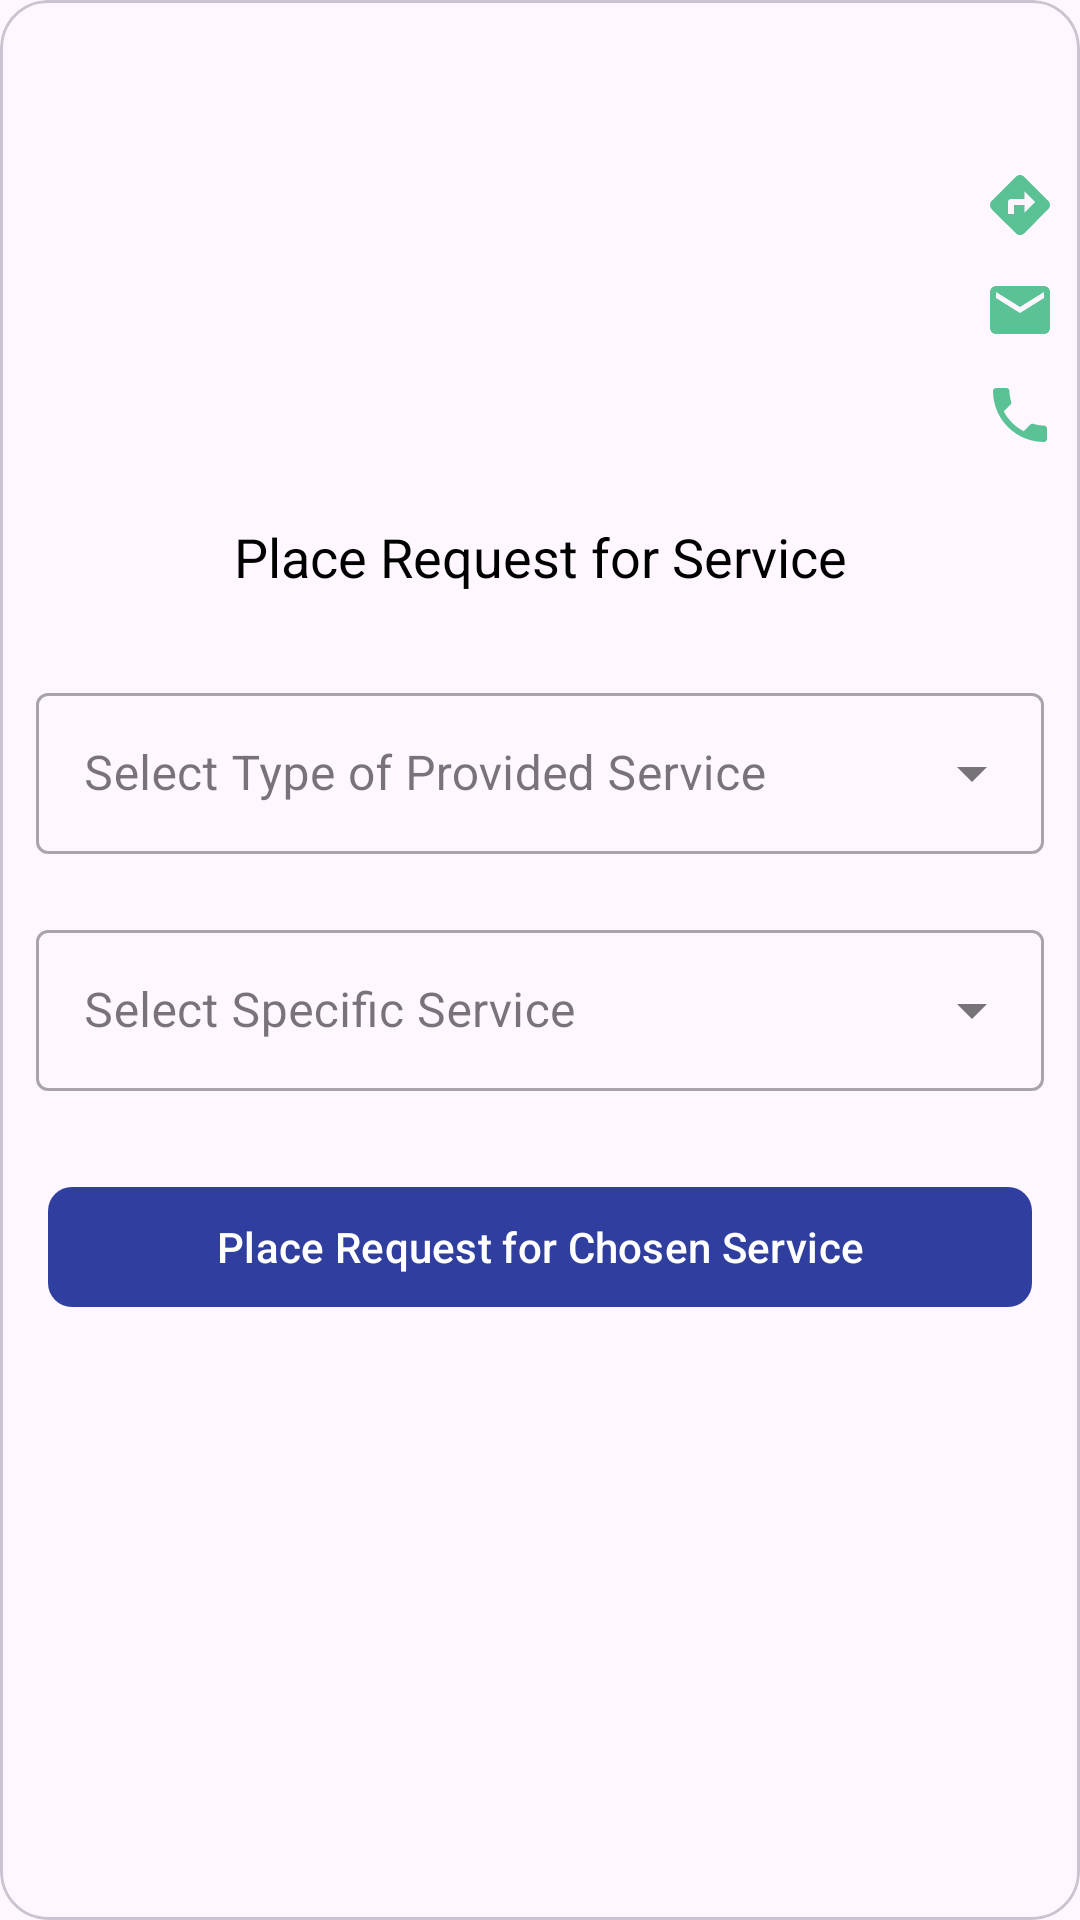

Screen size 1080×1920. Icon name, then its box in pixels as (x1, y1, x2, y2):
Enter Facility Email Address: (990, 286, 1050, 334)
Enter Facility Phone Number: (993, 388, 1047, 442)
Enter Facility Physical Address: (990, 175, 1050, 235)
